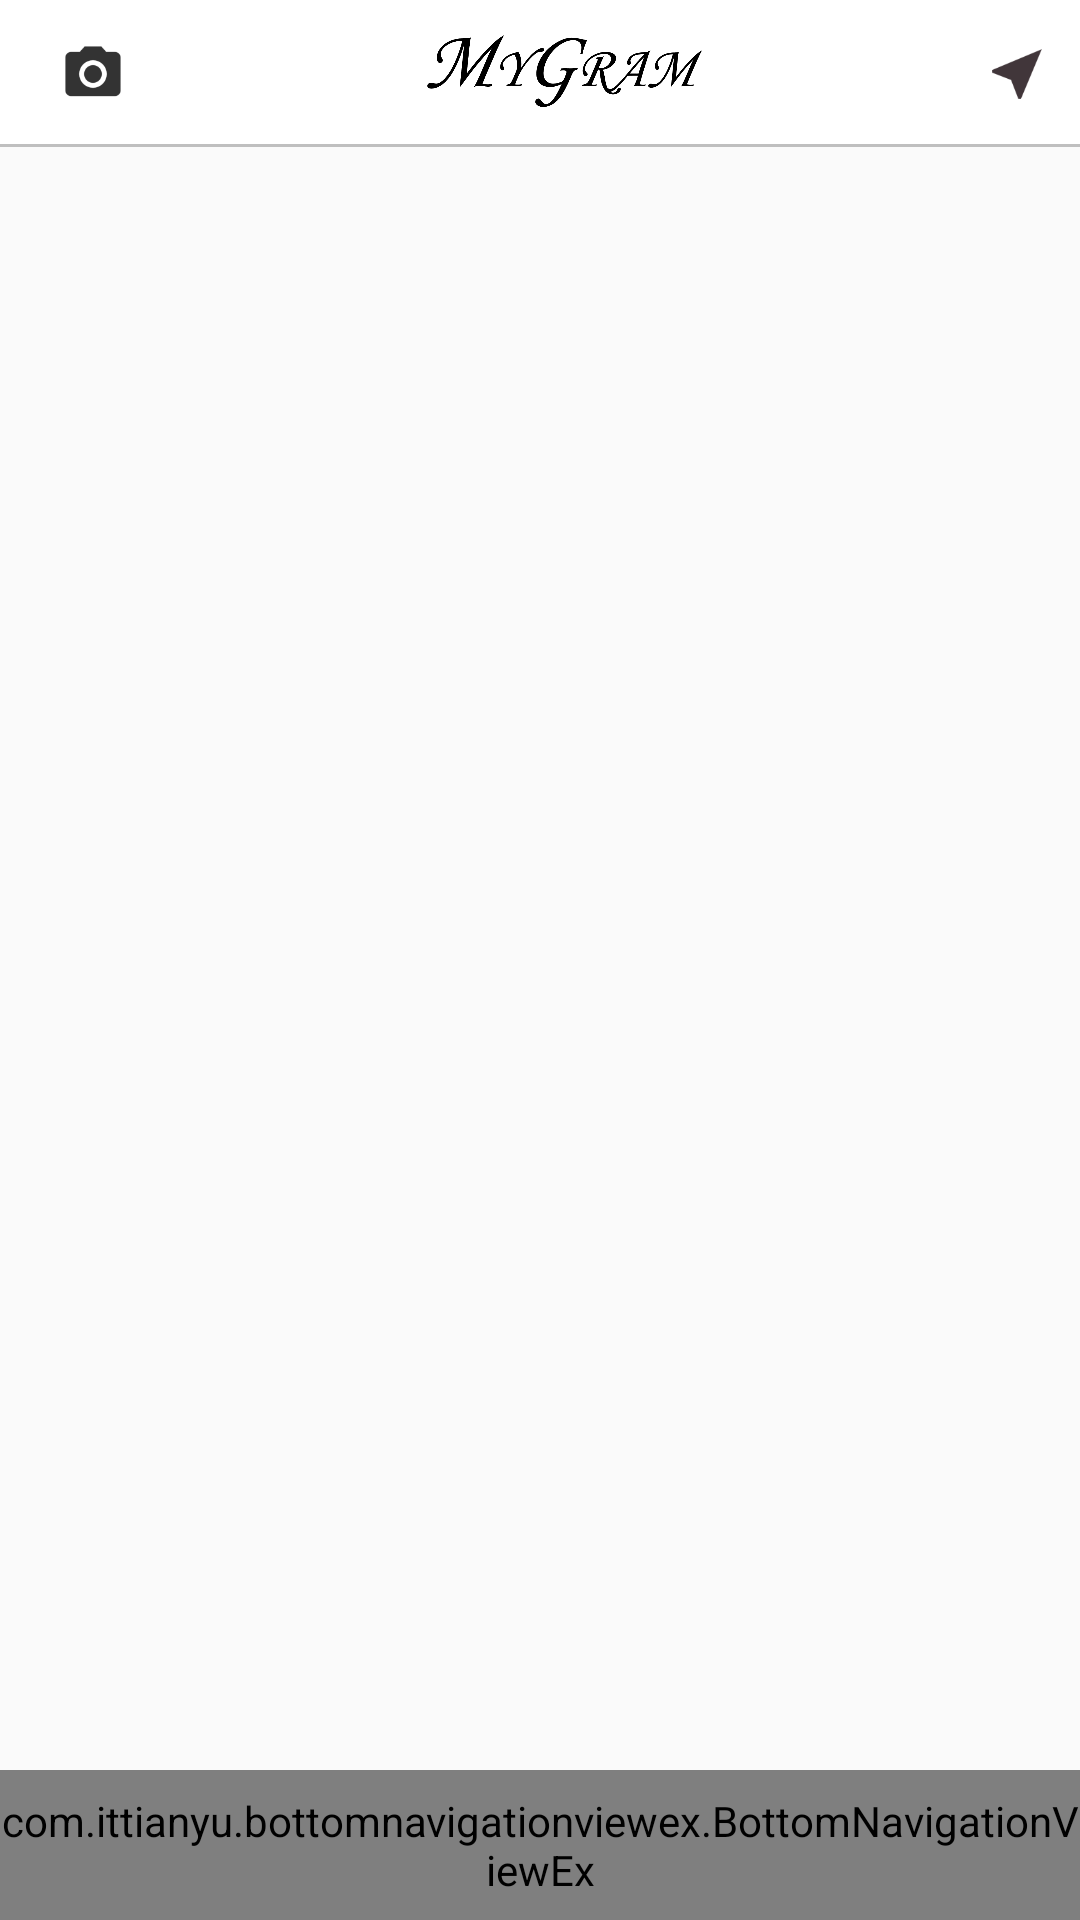

Where icons sit on this 1080px×1920px app screen, as bbox=(x1, y1, x2, y2):
camara: bbox=(65, 46, 121, 97)
messages: bbox=(992, 49, 1042, 99)
